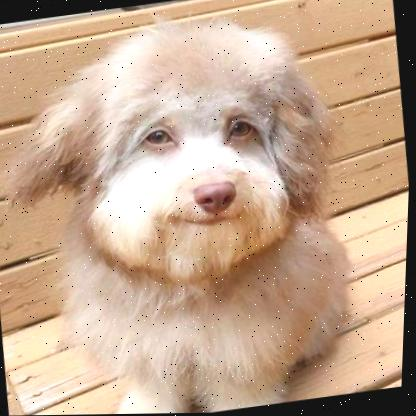dog: (0, 0, 383, 416)
person: (119, 86, 294, 264)
